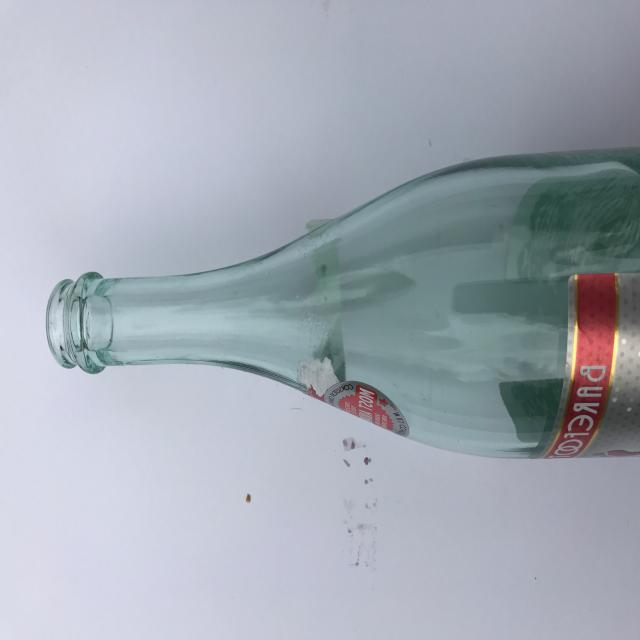glass: (45, 140, 640, 464)
